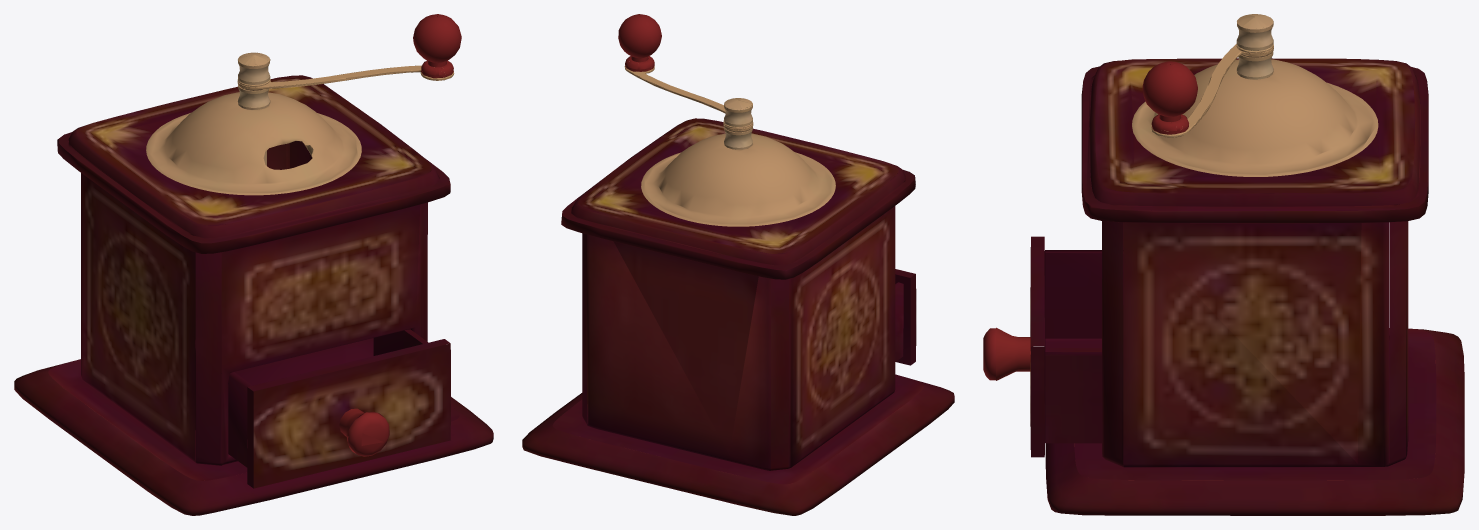
Rendered from obj_coffee_grinder_pbr.glb.
3 renders of one model, left to right at view 1: azimuth 30°, elevation 25°; view 2: azimuth 150°, elevation 25°; view 3: azimuth 270°, elevation 25°, orthographic. The views are drawn at different scales.
Visible parts, largest first — view 1: Object_10; view 2: Object_10; view 3: Object_10.
Boxes of the visible parts, x1,y1,x2,y2 form: Object_10: [14, 14, 493, 515]; Object_10: [522, 14, 954, 515]; Object_10: [983, 14, 1464, 515].
Bounding box in the file's own units: 0.2624 × 0.3 × 0.2938.
Materials: 4 (4 with a texture image).
